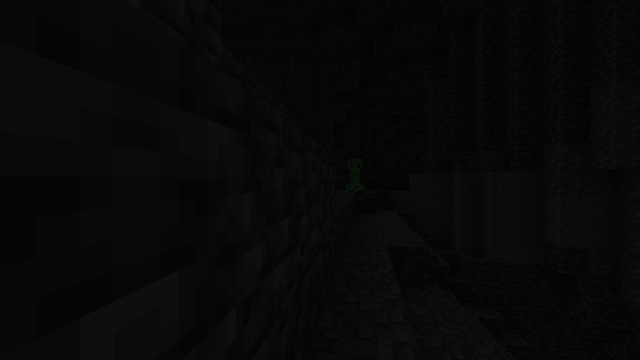creepers: (348, 156, 361, 192)
